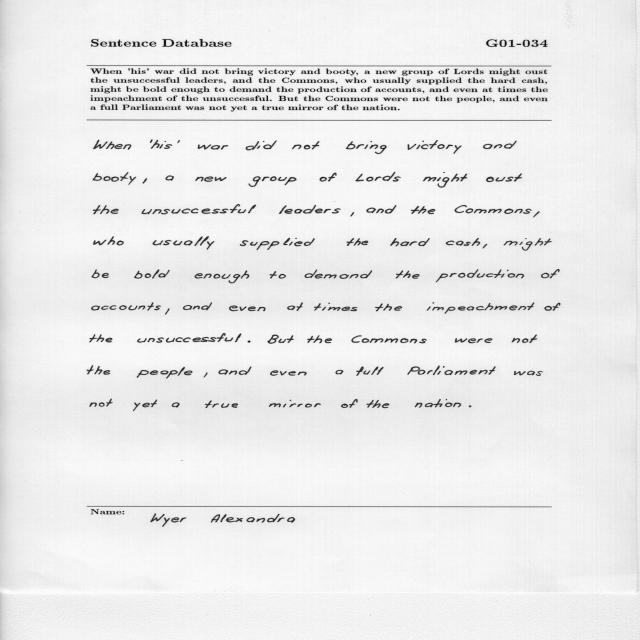word: (142, 204, 256, 215), (427, 303, 534, 314), (436, 269, 524, 282), (137, 333, 241, 343), (240, 238, 315, 250), (153, 237, 215, 250), (407, 366, 496, 375), (408, 140, 462, 154), (423, 172, 467, 188), (195, 271, 249, 284), (455, 205, 532, 214), (305, 269, 372, 279), (504, 238, 552, 251), (137, 367, 193, 378), (351, 335, 427, 343), (93, 172, 136, 185), (279, 205, 341, 214), (92, 303, 161, 311), (346, 141, 387, 154), (249, 176, 297, 187), (356, 172, 401, 182), (269, 400, 321, 408), (415, 399, 461, 408), (94, 140, 131, 150), (314, 303, 357, 311), (486, 173, 522, 182), (134, 270, 170, 279), (390, 238, 430, 246), (246, 141, 277, 151), (219, 366, 252, 375), (356, 366, 384, 376), (483, 141, 517, 149), (446, 238, 480, 246), (367, 205, 397, 214), (94, 237, 124, 246), (133, 400, 157, 411), (205, 400, 238, 408), (292, 141, 320, 150), (93, 205, 119, 214), (268, 335, 294, 344), (183, 303, 212, 311), (270, 370, 307, 376), (229, 306, 265, 312), (375, 304, 402, 312), (87, 366, 110, 375), (411, 206, 436, 214), (307, 336, 332, 344), (512, 335, 537, 343), (396, 271, 420, 279), (151, 140, 172, 149), (196, 176, 227, 182), (455, 338, 492, 343), (90, 399, 113, 407), (347, 238, 369, 246), (90, 335, 112, 343), (367, 400, 389, 408), (541, 269, 560, 278), (320, 173, 337, 182), (341, 399, 358, 408), (198, 145, 228, 150), (514, 371, 543, 376), (287, 302, 303, 311), (92, 270, 109, 278), (270, 271, 286, 279), (545, 303, 561, 311), (165, 176, 174, 181), (533, 212, 540, 218), (172, 403, 180, 408), (165, 308, 170, 315), (336, 370, 344, 374), (142, 178, 147, 184), (351, 212, 355, 217), (204, 373, 208, 378), (483, 244, 487, 248), (150, 140, 153, 143), (177, 140, 180, 143), (248, 341, 251, 343), (469, 406, 471, 408)
